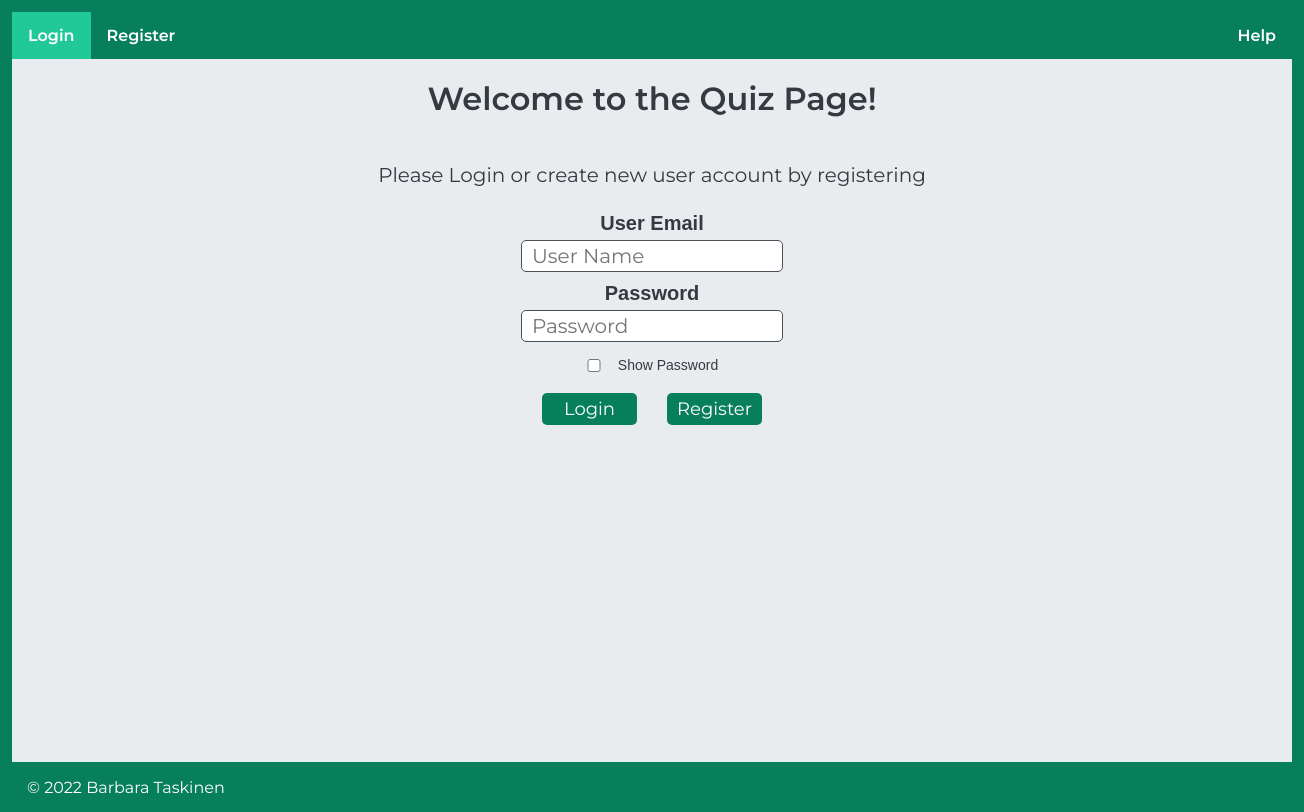
Test: login to quiz app › getting to register page from login page
What coordinates should you click on to do the following:
click the button with test id "login-page-register-button"
I would click on:
 (715, 409)
Its box is left=667, top=393, right=762, bottom=425.
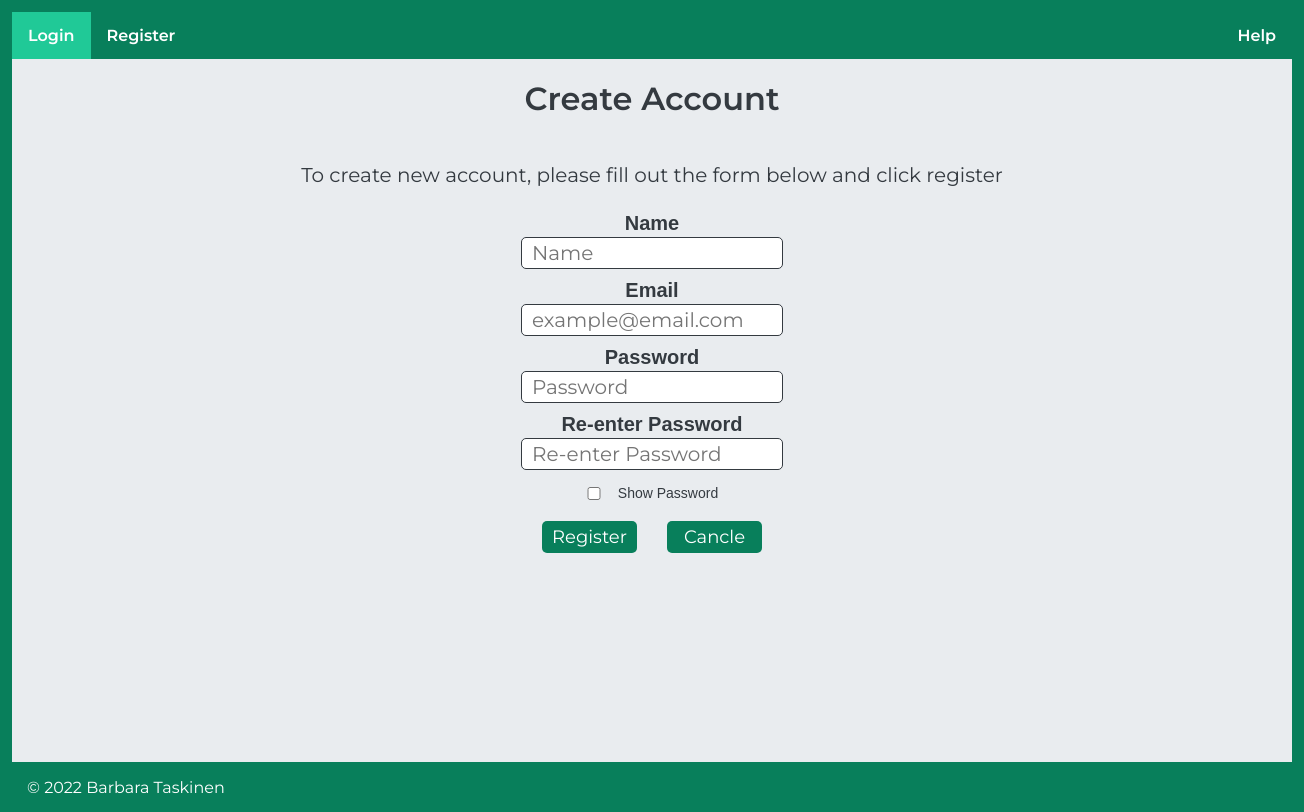
Expected: the heading "Create Account" is shown, left=524, top=79, right=780, bottom=118
